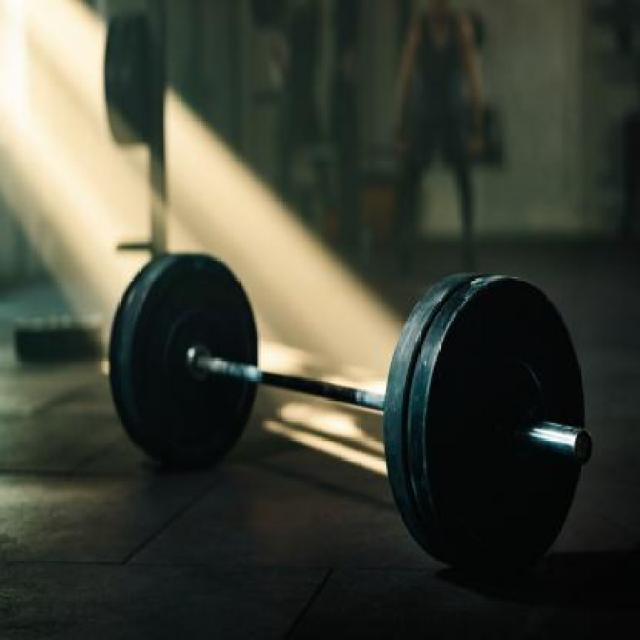Barbell: (556, 423, 612, 488)
